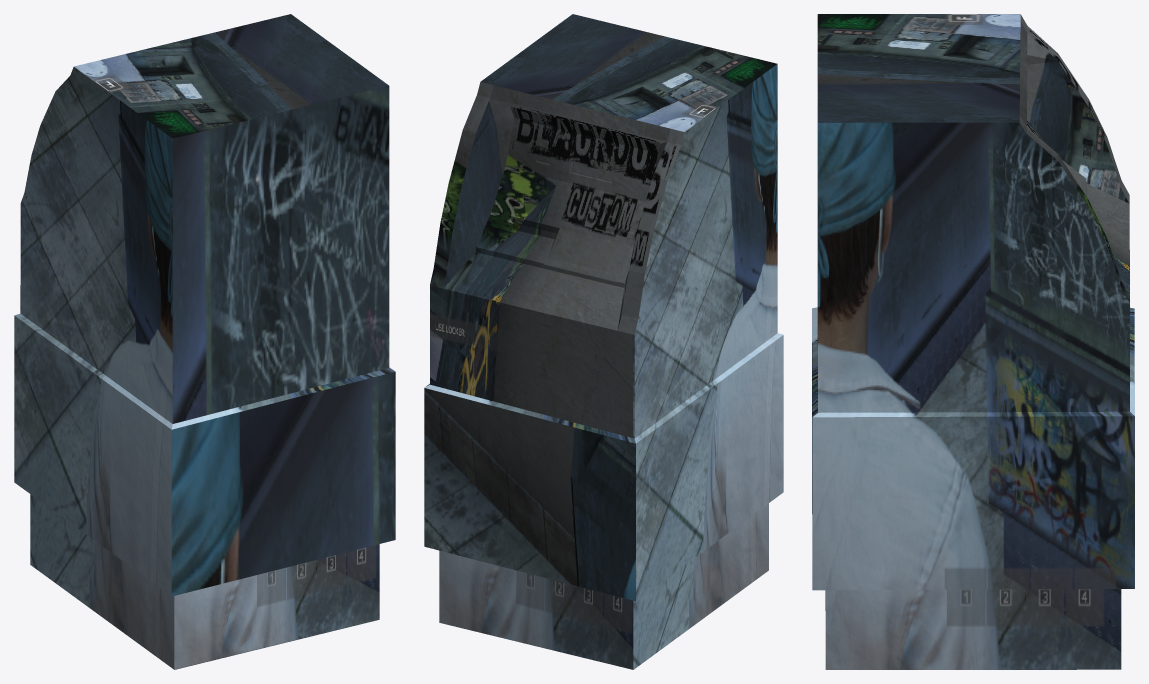
Rendered from ATM.fbx.
3 views of the same model, side by side, from view 1: azimuth 30°, elevation 25°; view 2: azimuth 150°, elevation 25°; view 3: azimuth 270°, elevation 25° (orthographic). The views are drawn at different scales.
Visible parts, largest first — view 1: atm; view 2: atm, screen; view 3: atm.
Part boxes in pixels (<box>): atm: <box>14,14,395,669</box>; atm: <box>424,14,783,669</box>; screen: <box>570,138,618,182</box>; atm: <box>812,14,1134,669</box>.
Bounding box in the file's own units: 0.5065 × 1.15 × 0.6138.
